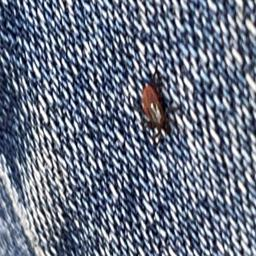Ixodes scapularis: (134, 62, 173, 142)
